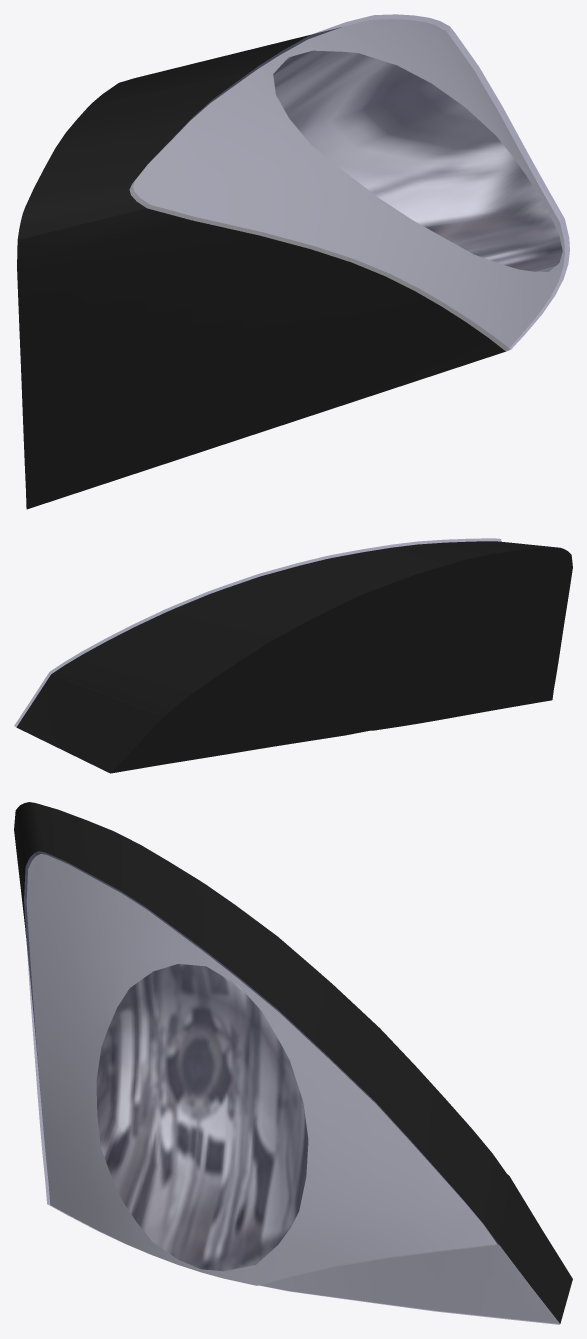
The picture shows the model from 3 angles, top to bottom: view 1: azimuth 30°, elevation 25°; view 2: azimuth 150°, elevation 25°; view 3: azimuth 270°, elevation 25°; orthographic projection. The views are drawn at different scales.
Parts seen in each view (by area): view 1: P157_061B_R_P157_061B_R_4_D, P157_061B_R_P157_061B_R_3_DTaSI, P157_061B_R_P157_061B_R_2_DaS, P157_061B_R_1_N_P157_061B_R; view 2: P157_061B_R_P157_061B_R_4_D, P157_061B_R_P157_061B_R_3_DTaSI; view 3: P157_061B_R_P157_061B_R_3_DTaSI, P157_061B_R_P157_061B_R_2_DaS, P157_061B_R_1_N_P157_061B_R, P157_061B_R_P157_061B_R_4_D.
Part boxes in pixels (x1,y1,x2,y2): P157_061B_R_P157_061B_R_4_D: (17,27,505,509); P157_061B_R_P157_061B_R_3_DTaSI: (130,14,569,351); P157_061B_R_P157_061B_R_2_DaS: (129,19,564,350); P157_061B_R_1_N_P157_061B_R: (273,50,562,271); P157_061B_R_P157_061B_R_4_D: (16,541,572,773); P157_061B_R_P157_061B_R_3_DTaSI: (14,538,501,726); P157_061B_R_P157_061B_R_3_DTaSI: (24,851,559,1324); P157_061B_R_P157_061B_R_2_DaS: (26,854,559,1323); P157_061B_R_1_N_P157_061B_R: (96,964,308,1271); P157_061B_R_P157_061B_R_4_D: (14,802,572,1323).
Size of the model in its own units: 59.92 by 25.24 by 47.71.
